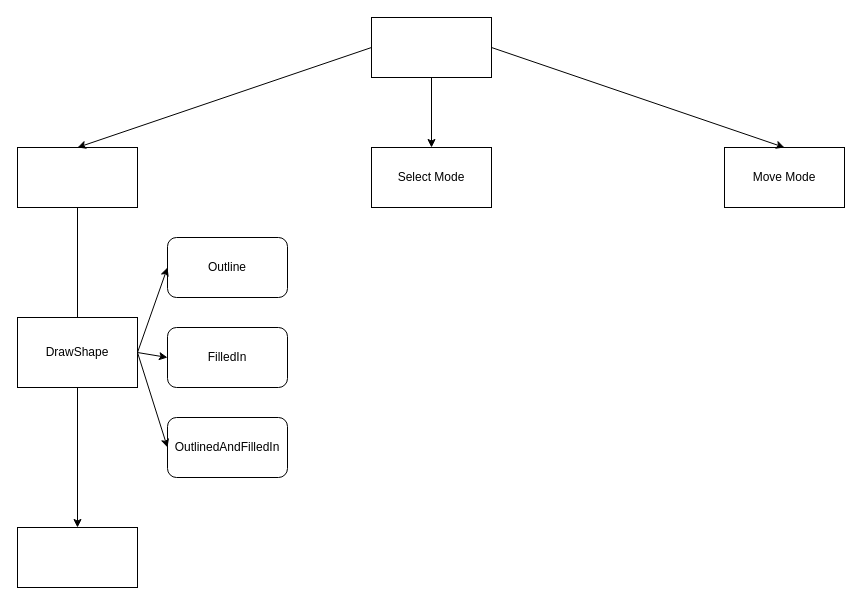
Some shapes in this 862 by 605 pixel diagram are drawn without their labels. The centre of each missing label's shape, as x and y in pixels:
Draw Mode: point (77, 177)
DrawShapeCommand: point (77, 557)
PaintMouseListener: point (431, 47)
